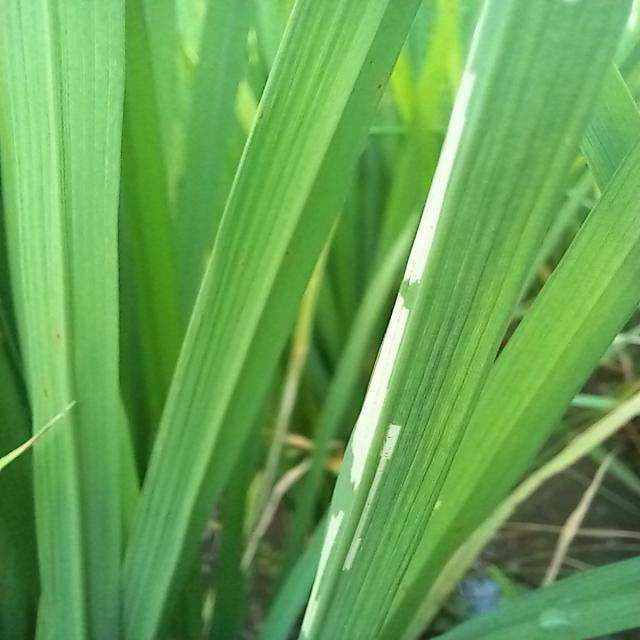Rice_Hispa: (404, 66, 483, 293), (350, 292, 410, 493)
